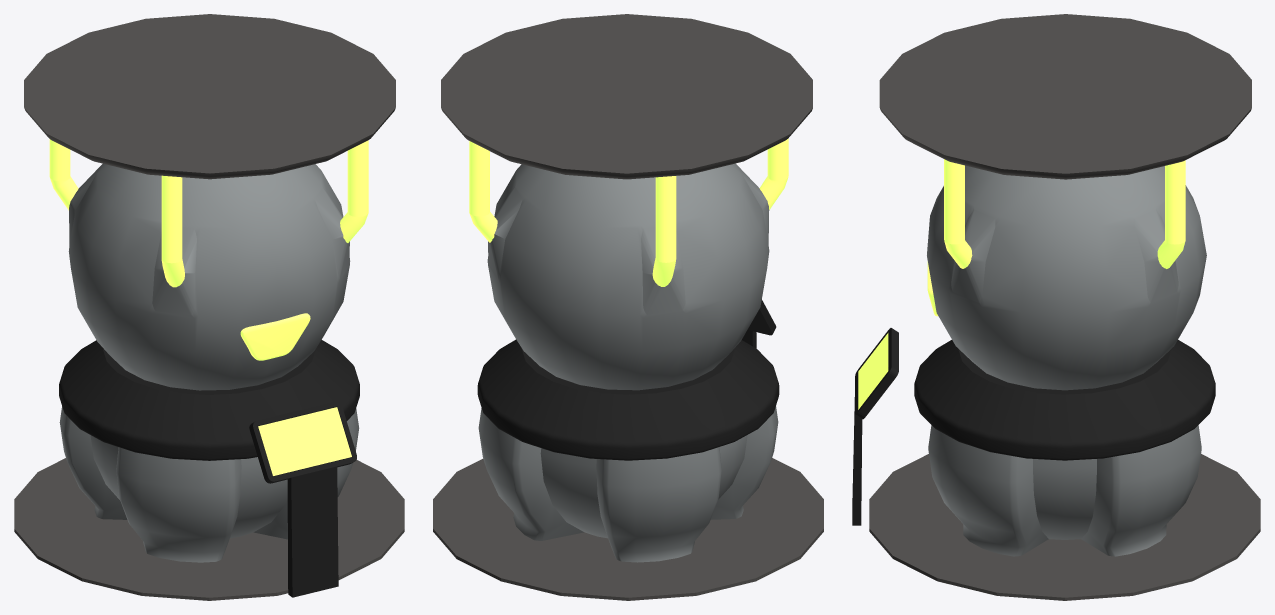
File: RadioActiveDisposalWithTex.fbx
The picture shows the model from 3 angles, left to right: view 1: azimuth 30°, elevation 25°; view 2: azimuth 150°, elevation 25°; view 3: azimuth 270°, elevation 25°; orthographic projection.
Parts seen in each view (by area): view 1: BioHazardDis_Core, BioHazardDis_top_support, BioHazardDis_base_floor, BioHazardDis_Base_panel, BioHazardDis_Base, BioHazardDisDis_pda, BioHazardDis_Base_pipe, BioHazardDis_Screen; view 2: BioHazardDis_Core, BioHazardDis_top_support, BioHazardDis_base_floor, BioHazardDis_Base, BioHazardDis_Base_panel, BioHazardDis_Base_pipe, BioHazardDisDis_pda; view 3: BioHazardDis_top_support, BioHazardDis_Core, BioHazardDis_base_floor, BioHazardDis_Base, BioHazardDis_Base_panel, BioHazardDis_Base_pipe, BioHazardDisDis_pda.
Boxes of the visible parts, bbox=[...] form: BioHazardDis_Core: bbox=[68, 163, 350, 390]; BioHazardDis_top_support: bbox=[24, 14, 395, 179]; BioHazardDis_base_floor: bbox=[14, 458, 404, 600]; BioHazardDis_Base_panel: bbox=[59, 340, 359, 460]; BioHazardDis_Base: bbox=[59, 406, 359, 562]; BioHazardDisDis_pda: bbox=[249, 401, 356, 597]; BioHazardDis_Base_pipe: bbox=[49, 139, 368, 287]; BioHazardDis_Screen: bbox=[240, 313, 310, 360]; BioHazardDis_Core: bbox=[487, 163, 769, 390]; BioHazardDis_top_support: bbox=[441, 14, 812, 179]; BioHazardDis_base_floor: bbox=[433, 458, 823, 600]; BioHazardDis_Base: bbox=[478, 406, 778, 562]; BioHazardDis_Base_panel: bbox=[477, 339, 779, 460]; BioHazardDis_Base_pipe: bbox=[469, 138, 788, 286]; BioHazardDisDis_pda: bbox=[742, 299, 776, 348]; BioHazardDis_top_support: bbox=[879, 14, 1251, 179]; BioHazardDis_Core: bbox=[927, 165, 1206, 390]; BioHazardDis_base_floor: bbox=[869, 454, 1260, 600]; BioHazardDis_Base: bbox=[928, 425, 1201, 556]; BioHazardDis_Base_panel: bbox=[914, 340, 1215, 460]; BioHazardDis_Base_pipe: bbox=[944, 159, 1185, 268]; BioHazardDisDis_pda: bbox=[852, 328, 898, 525].
Size of the model in its own units: 224 by 263 by 230.
